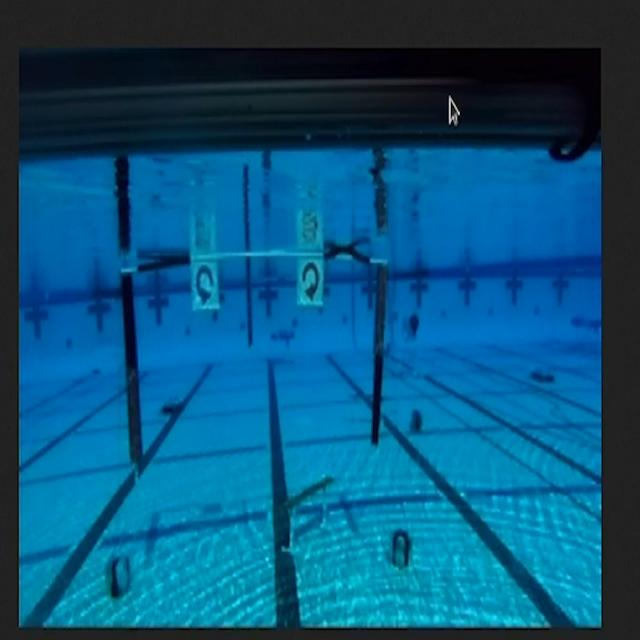Gate: (115, 245, 392, 477)
